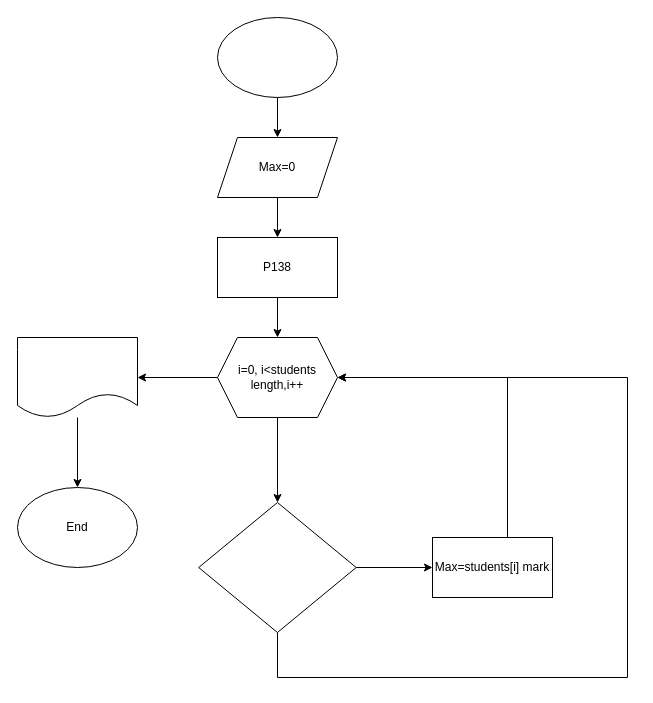
The diagram is 653 pixels wide and 703 high, and some of its shapes have lost their labels. Here are the shapes that lost their labels. From the top down, the centre of each, then its label:
At point 277,57: "Start".
At point 77,377: "Max".
At point 277,567: "students[i] mark>Max && students[i] P138 de oxuyurmu".
